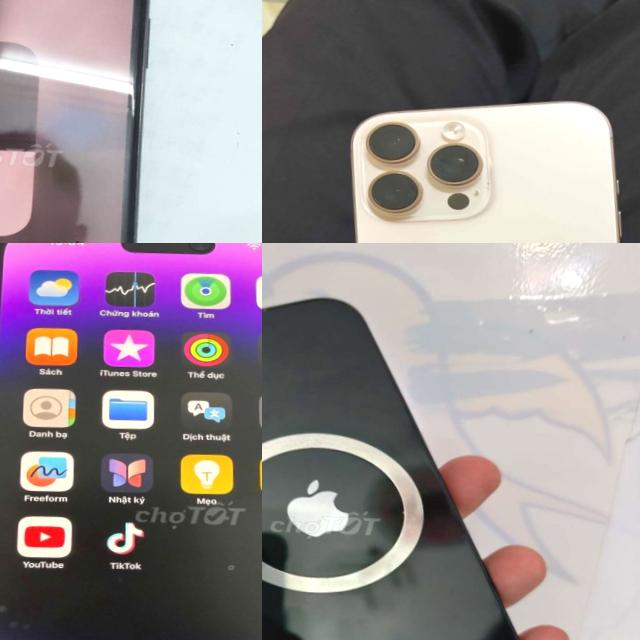scratch: (0, 591, 46, 640)
screen_defect: (212, 550, 248, 583)
